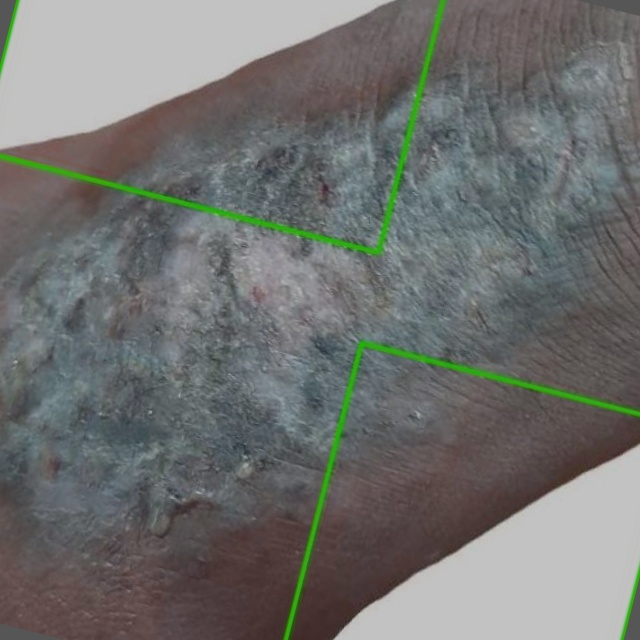Contact Dermatitis: (0, 0, 442, 252), (285, 344, 639, 639)
